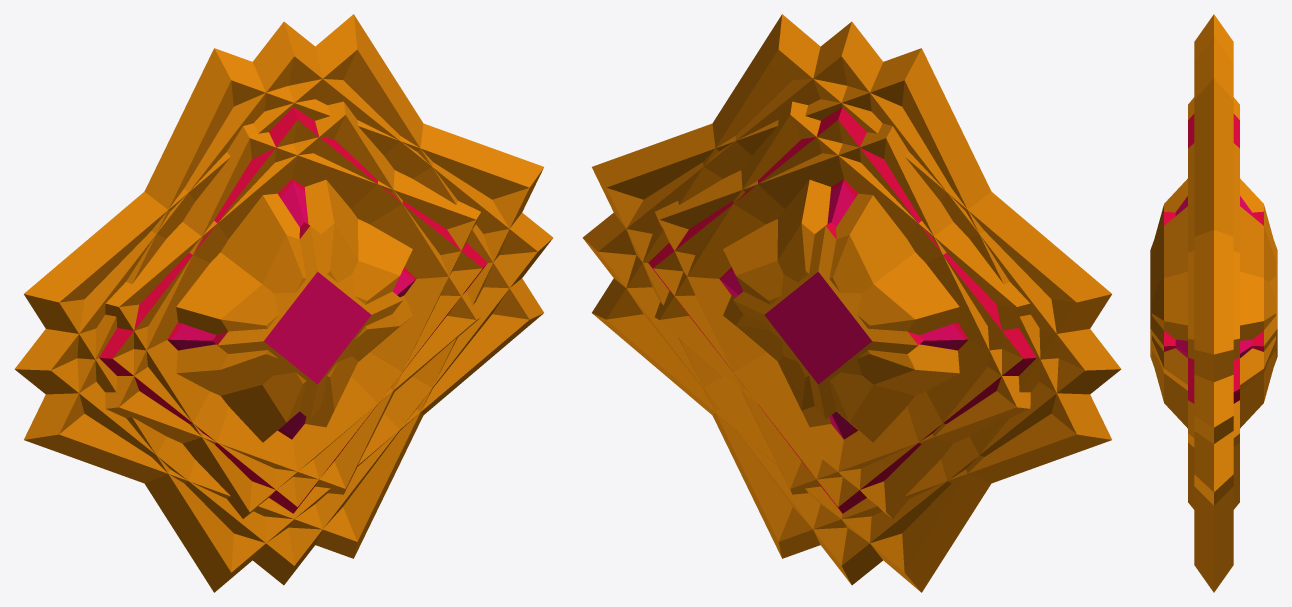
File: FlameTower.fbx
The picture shows the model from 3 angles, left to right: view 1: azimuth 30°, elevation 25°; view 2: azimuth 150°, elevation 25°; view 3: azimuth 270°, elevation 25°; orthographic projection. The views are drawn at different scales.
Parts seen in each view (by area): view 1: Cube.002, Cube.001, Cube; view 2: Cube.002, Cube.001, Cube; view 3: Cube.002, Cube.001, Cube.
Boxes of the visible parts, x1,y1,x2,y2 form: Cube.002: (24,48,543,558); Cube.001: (24,14,543,592); Cube: (14,21,553,585); Cube.002: (592,48,1111,558); Cube.001: (592,14,1111,592); Cube: (582,21,1121,585); Cube.002: (1152,14,1275,592); Cube.001: (1152,78,1275,505); Cube: (1150,37,1277,443).
Size of the model in its own units: 587 by 587 by 127.
